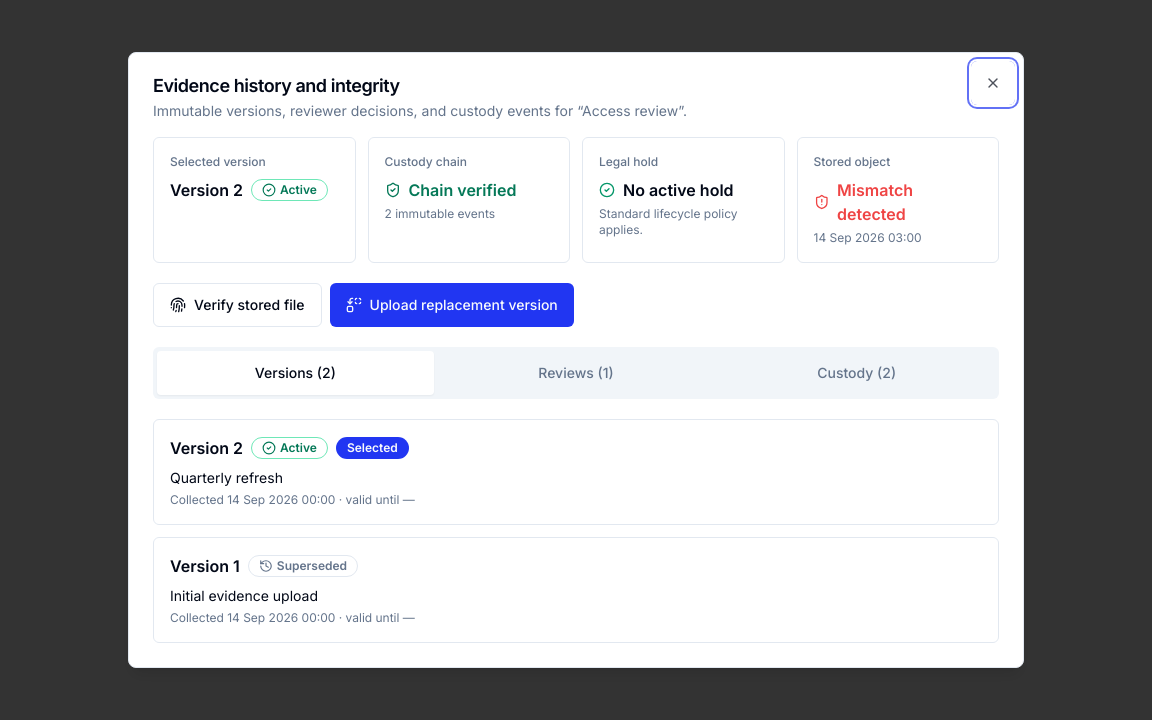
Test case: evidence lifecycle dialog › focuses and explains an integrity mismatch without exposing provider errors
The width and height of the screenshot is (1152, 720).
Click the button "Verify stored file": click(237, 305) 153,283 -> 322,327
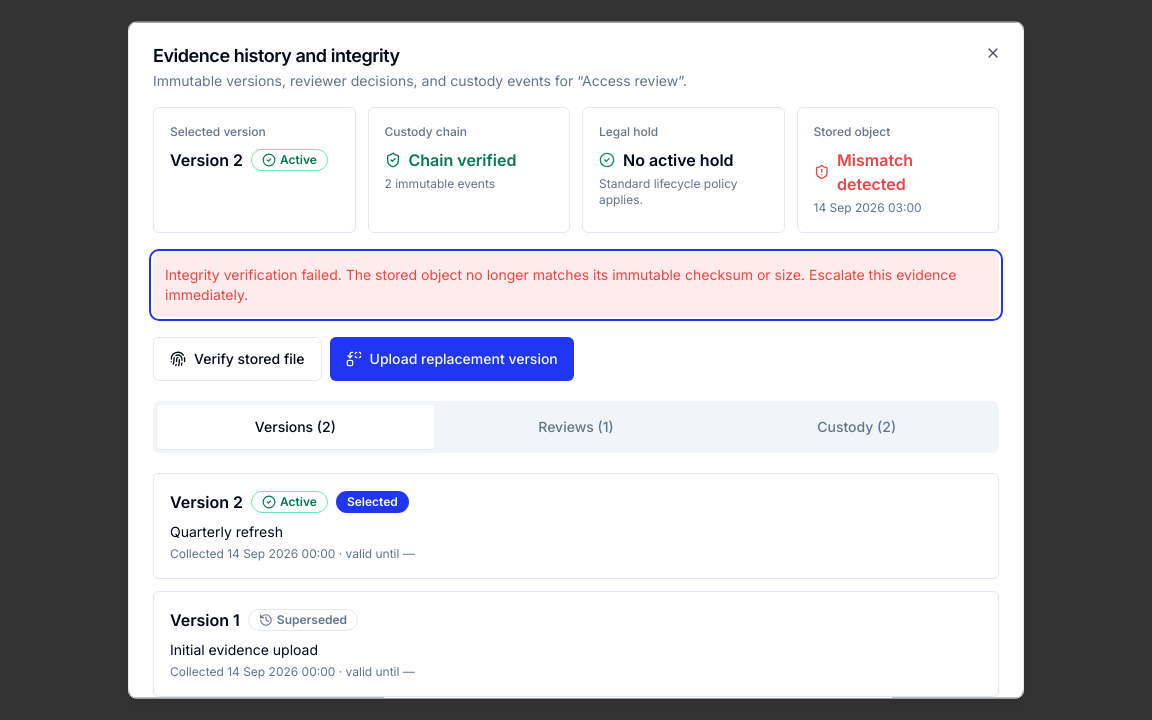
Expected: the message does not show "provider", 153,253 -> 999,317
Expected: the message shows "stored object no longer matches", 165,266 -> 956,303
